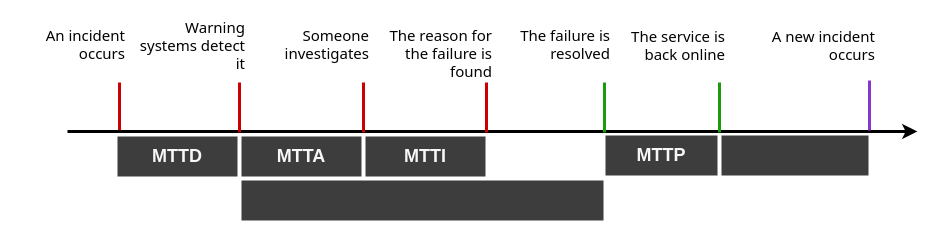
Image size: 944x237. Some labels were removed from this diagram. The centre of each missing label's shape, as x and y in pixels:
"MTBF" belongs at (x=794, y=155).
"MTTR" belongs at (x=422, y=200).
